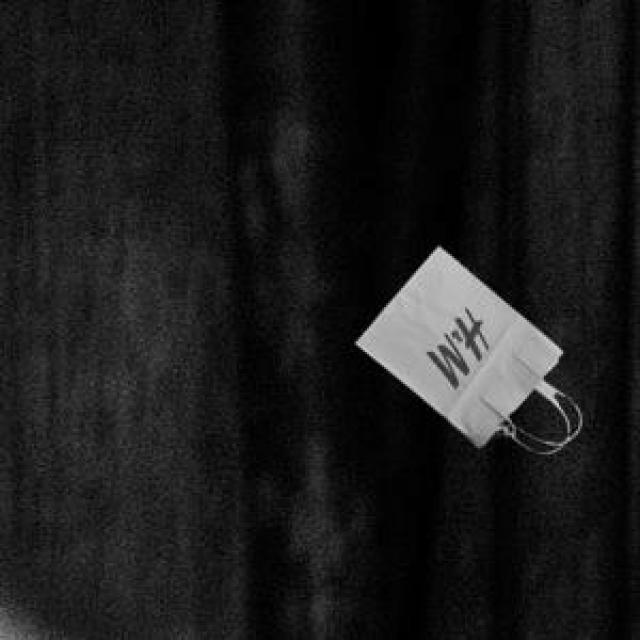paper: (352, 243, 559, 444)
